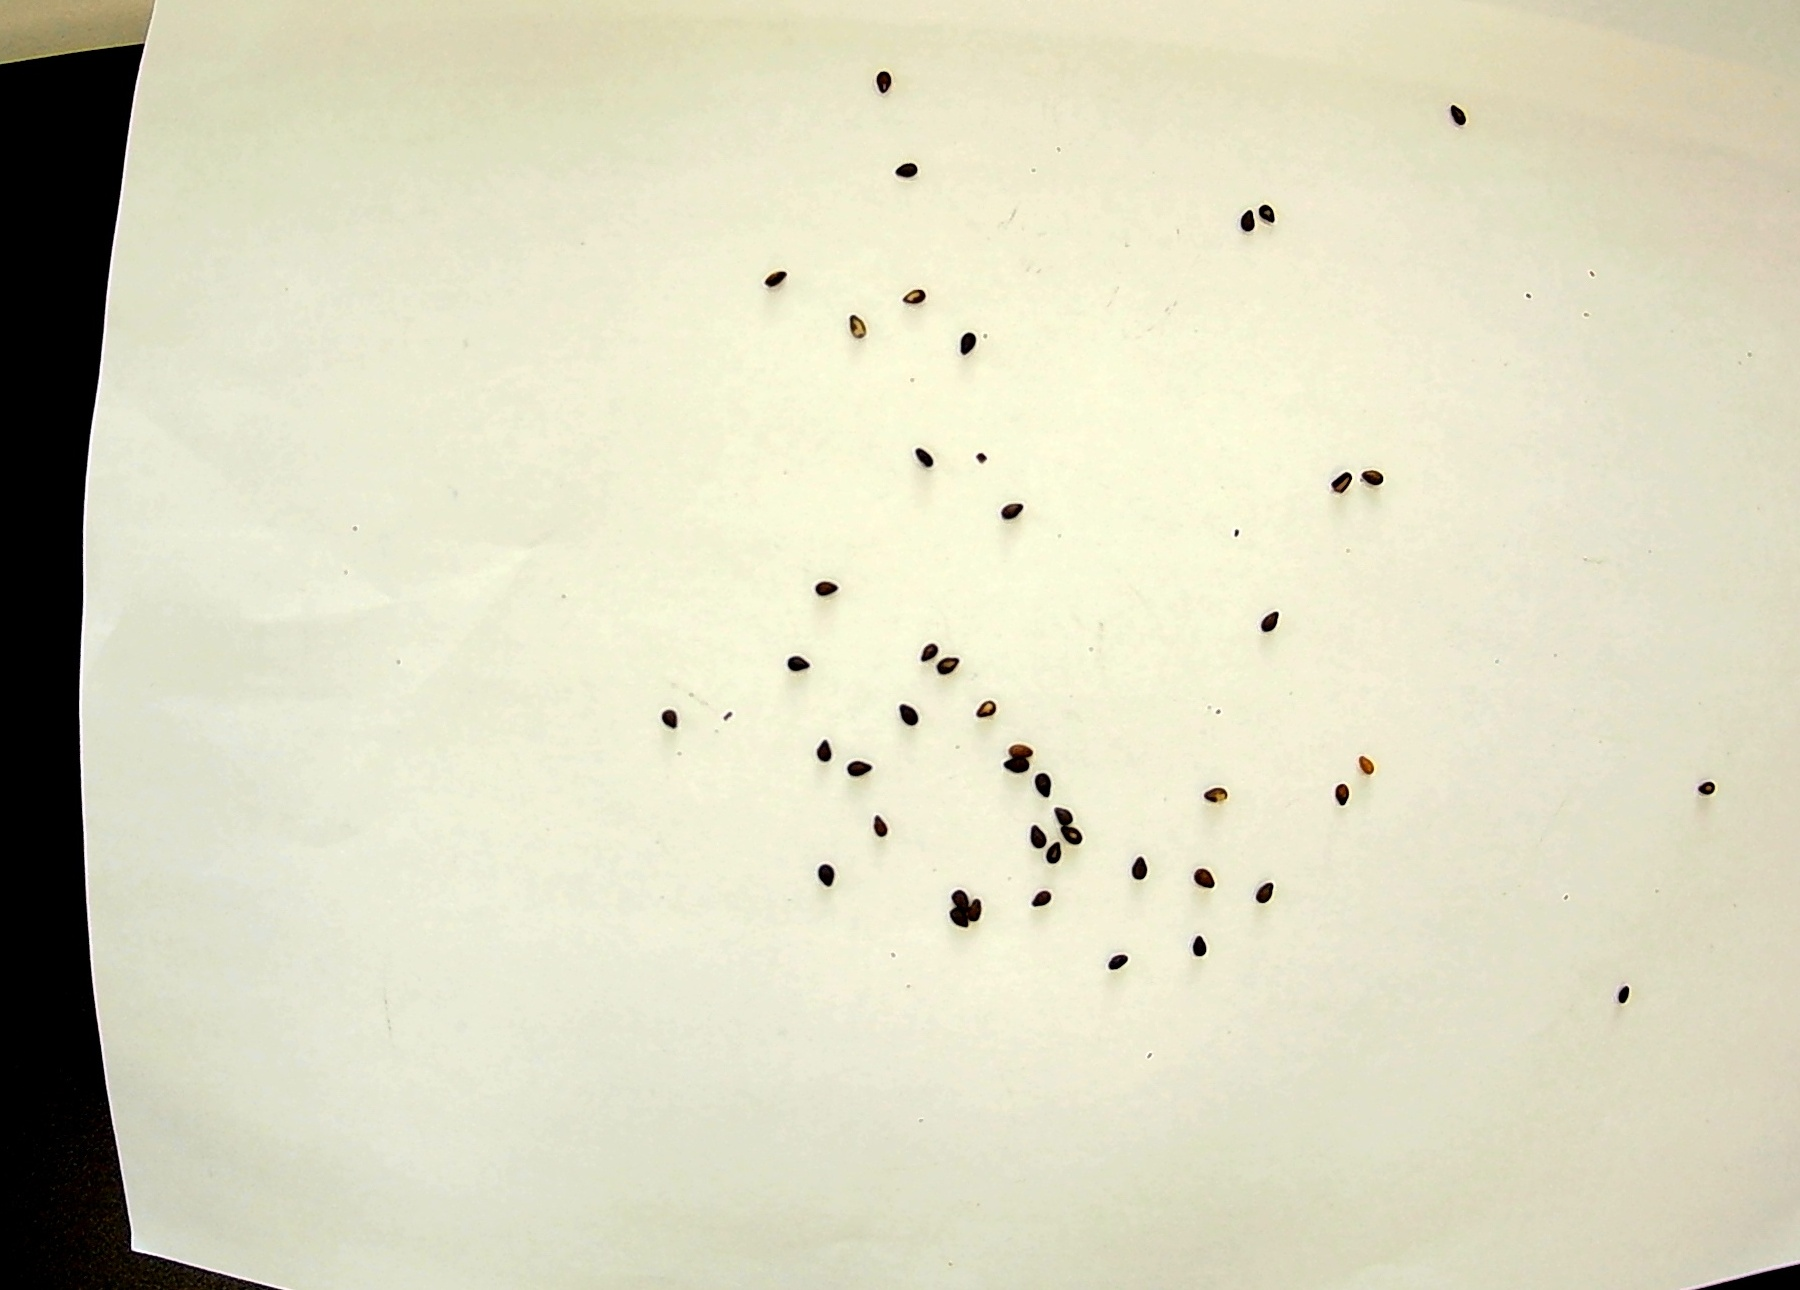sesami: (913, 621, 950, 659), (963, 687, 1000, 725), (925, 653, 961, 692), (864, 61, 899, 95), (1446, 94, 1479, 127), (779, 646, 813, 679), (654, 706, 689, 739), (908, 440, 943, 472), (903, 289, 938, 321), (846, 311, 880, 343), (753, 264, 788, 296), (885, 155, 920, 187), (1323, 461, 1358, 493), (1326, 787, 1360, 820), (1224, 205, 1259, 237), (957, 322, 991, 355), (1024, 887, 1058, 919), (1101, 958, 1134, 990), (1118, 859, 1151, 891), (1180, 859, 1214, 891), (1183, 935, 1217, 967), (1242, 875, 1275, 907), (1197, 783, 1231, 815), (1345, 755, 1379, 787), (1243, 607, 1277, 639), (1360, 458, 1394, 490), (1257, 195, 1291, 228), (1614, 969, 1648, 1001), (843, 752, 878, 783), (970, 899, 1005, 930), (931, 907, 966, 938), (1000, 501, 1035, 532), (896, 697, 929, 727), (868, 811, 901, 842), (936, 871, 970, 902), (815, 861, 848, 892), (801, 736, 834, 766), (809, 575, 843, 606), (1694, 771, 1727, 801), (1000, 759, 1026, 794), (1053, 792, 1079, 826), (1035, 766, 1060, 800), (1042, 843, 1067, 877), (1024, 815, 1049, 849), (1012, 726, 1035, 759), (1065, 831, 1088, 864)
